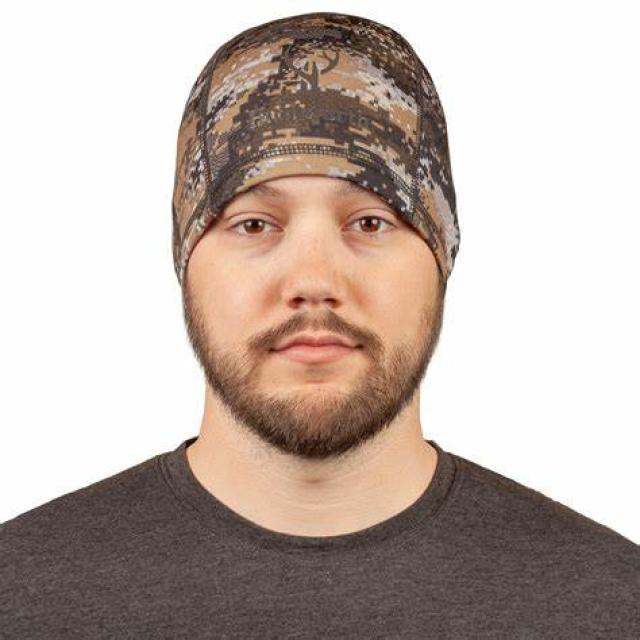illegal_helmet: (161, 7, 470, 468)
